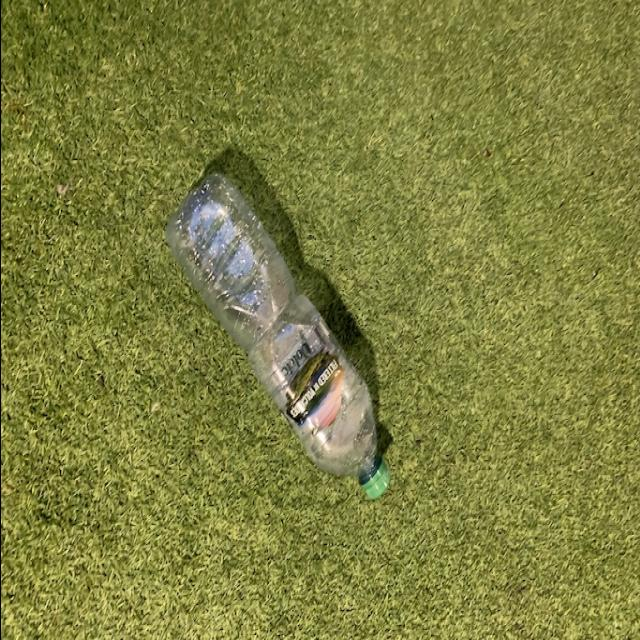litter: (160, 169, 390, 500)
